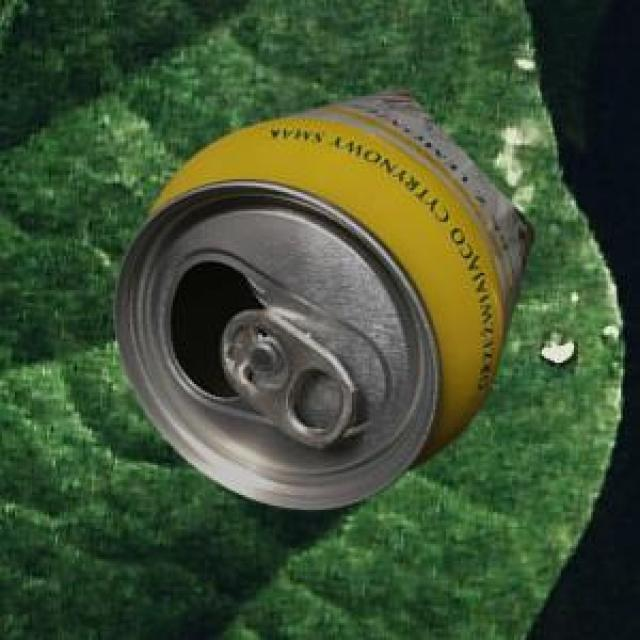Can: (112, 86, 532, 507)
